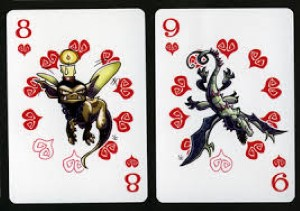NineOfHearts: (152, 6, 296, 204)
